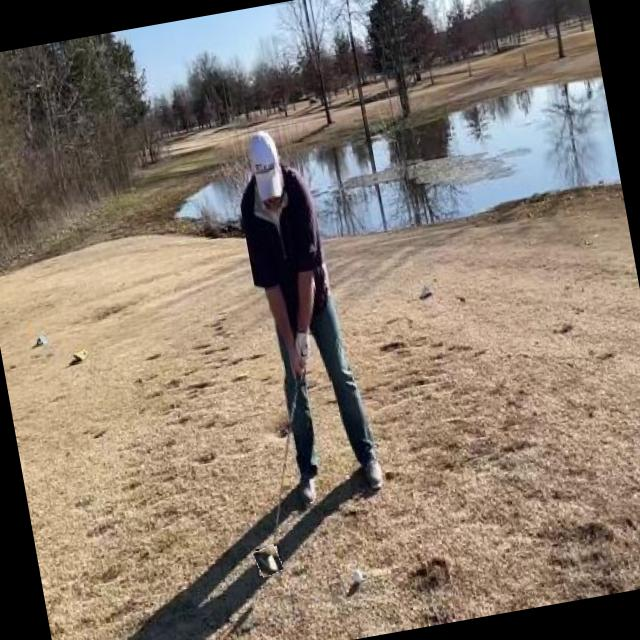club head: (253, 544, 283, 576)
